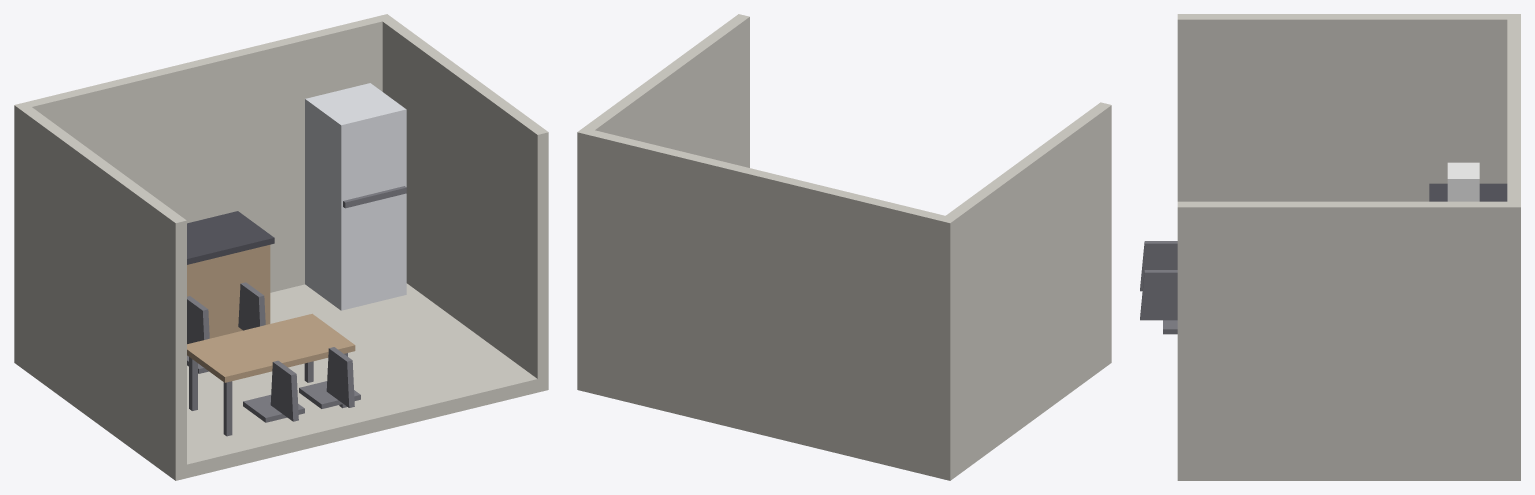
Rendered from casino-floor-and-back-rooms-break-room-8ee1a69f__27071.glb.
The picture shows the model from 3 angles, left to right: view 1: azimuth 30°, elevation 25°; view 2: azimuth 150°, elevation 25°; view 3: azimuth 270°, elevation 25°; orthographic projection. The views are drawn at different scales.
Visible parts, largest first — view 1: break-room; view 2: break-room; view 3: break-room.
Boxes of the visible parts, box(x1,y1,x2,y2) form: break-room: box(14, 14, 548, 480); break-room: box(577, 14, 1111, 480); break-room: box(1140, 14, 1520, 480).
Size of the model in its own units: 4 by 2.64 by 3.33.
